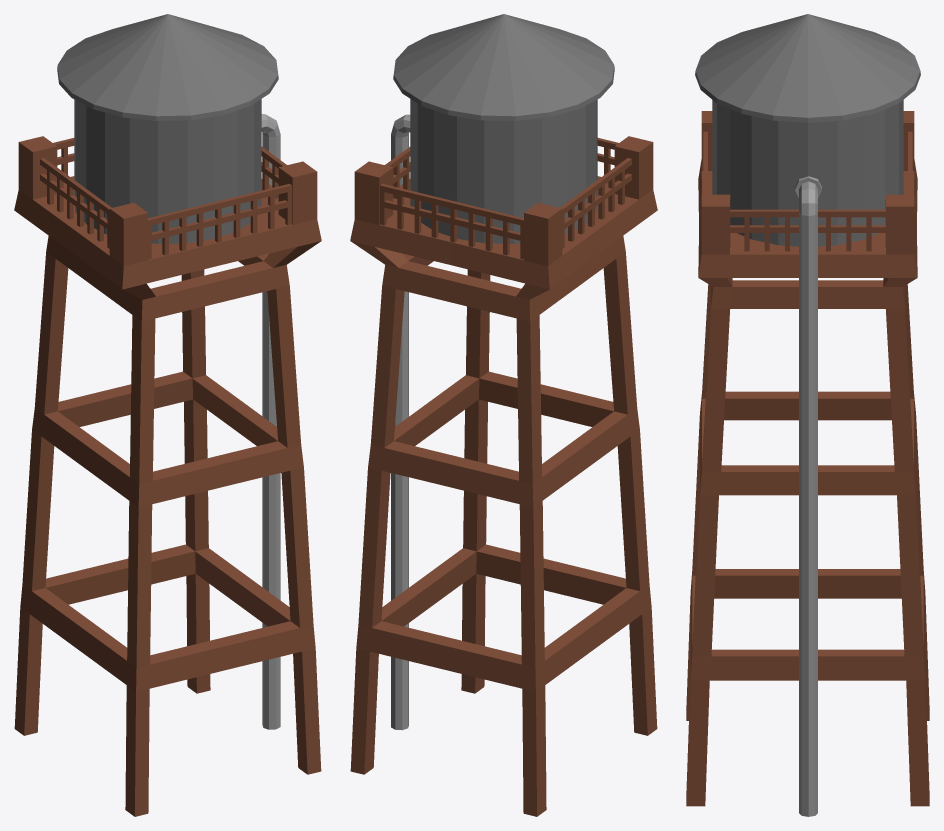
The model's file is WaterTower.gltf.
3 renders of one model, left to right at view 1: azimuth 30°, elevation 25°; view 2: azimuth 150°, elevation 25°; view 3: azimuth 270°, elevation 25°, orthographic.
Parts seen in each view (by area): view 1: WaterTower_Cube.006; view 2: WaterTower_Cube.006; view 3: WaterTower_Cube.006.
Boxes of the visible parts, bbox=[...] form: WaterTower_Cube.006: bbox=[14, 14, 321, 816]; WaterTower_Cube.006: bbox=[350, 14, 657, 816]; WaterTower_Cube.006: bbox=[686, 14, 929, 816].
Size of the model in its own units: 2.53 by 8.43 by 2.49.
